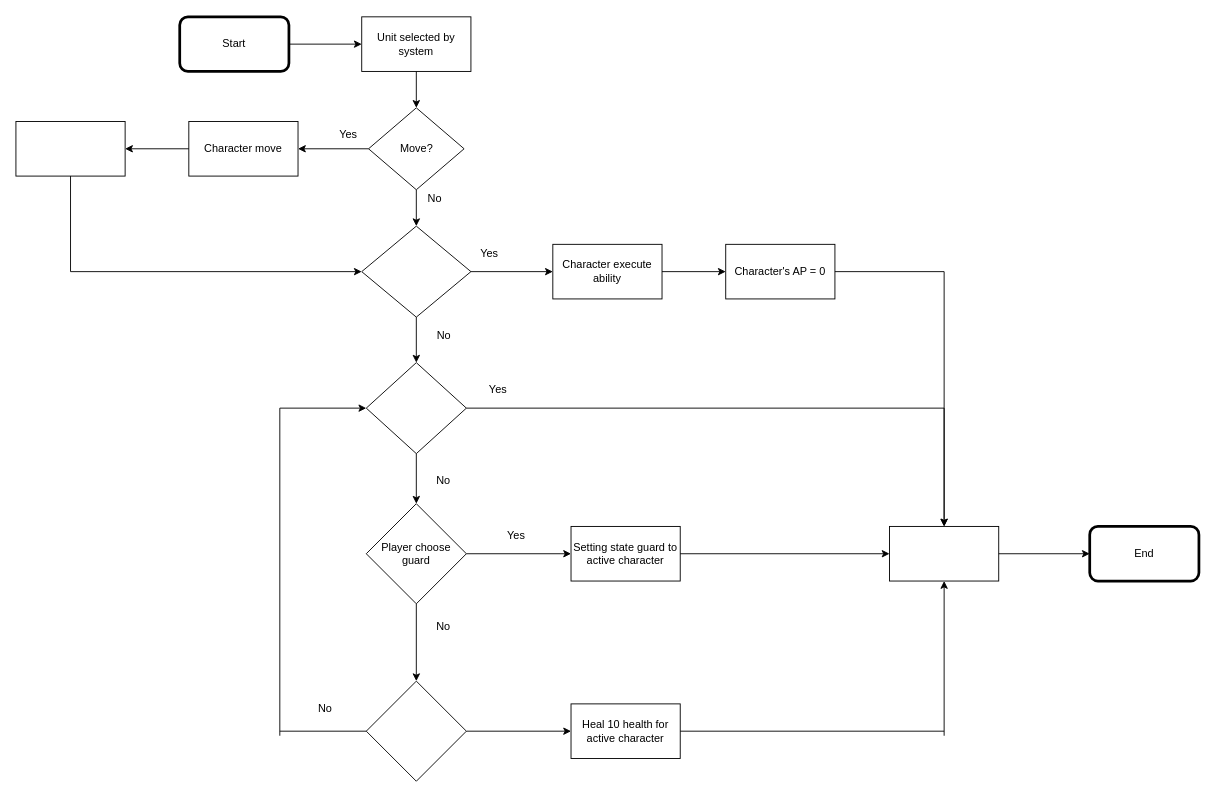
The diagram is 1216 pixels wide and 797 high, and some of its shapes have lost their labels. The centre of each missing label's shape, as x and y in pixels:
"Cast Ability?" goes at (416,271).
"Character's AP = 1" goes at (70,148).
"End Turn" goes at (944,553).
"Player choose End Turn" goes at (415,408).
"Player choose heal" goes at (415,730).
